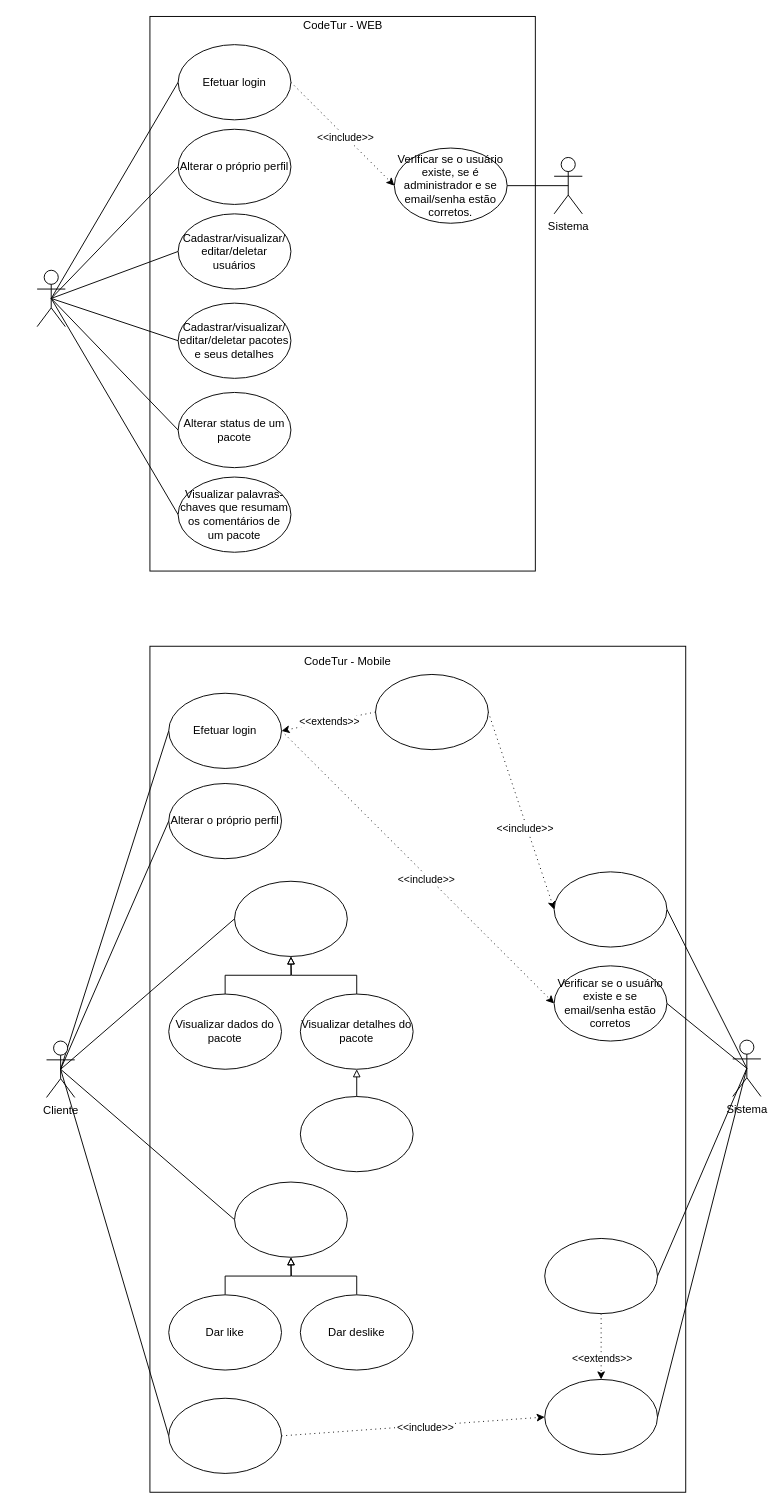
The diagram is 783 pixels wide and 1509 high, and some of its shapes have lost their labels. The centre of each missing label's shape, as x and y in pixels:
Administrador: the point at 50,298
Analisar comentário contra spam e palavras ofensivas: the point at 601,1417
Cadastrar-se: the point at 431,712
Identificar palavras-chaves/sentimentos: the point at 601,1276
Reagir a um pacote: the point at 290,1219
Verificar se email já existe: the point at 610,909
Visualizar comentários do pacote: the point at 356,1134
Visualizar pacotes: the point at 290,918
Visualizar/criar comentários em pacotes: the point at 225,1435
